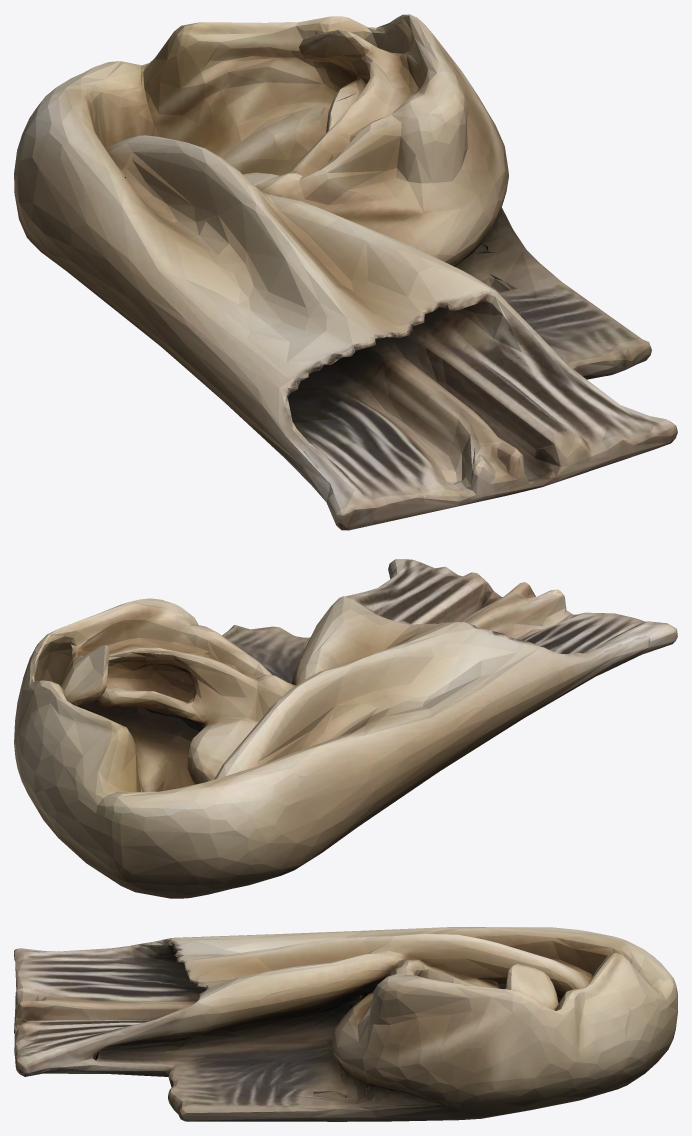
3 renders of one model, top to bottom at view 1: azimuth 30°, elevation 25°; view 2: azimuth 150°, elevation 25°; view 3: azimuth 270°, elevation 25°, orthographic. The views are drawn at different scales.
Visible parts, largest first — view 1: geometry_0; view 2: geometry_0; view 3: geometry_0.
Boxes of the visible parts, x1=… form: geometry_0: x1=14, y1=14, x2=677, y2=530; geometry_0: x1=14, y1=559, x2=677, y2=898; geometry_0: x1=14, y1=927, x2=677, y2=1121.
Bounding box in the file's own units: 0.5802 × 0.2661 × 0.9991.
1 material, 1 textured.
